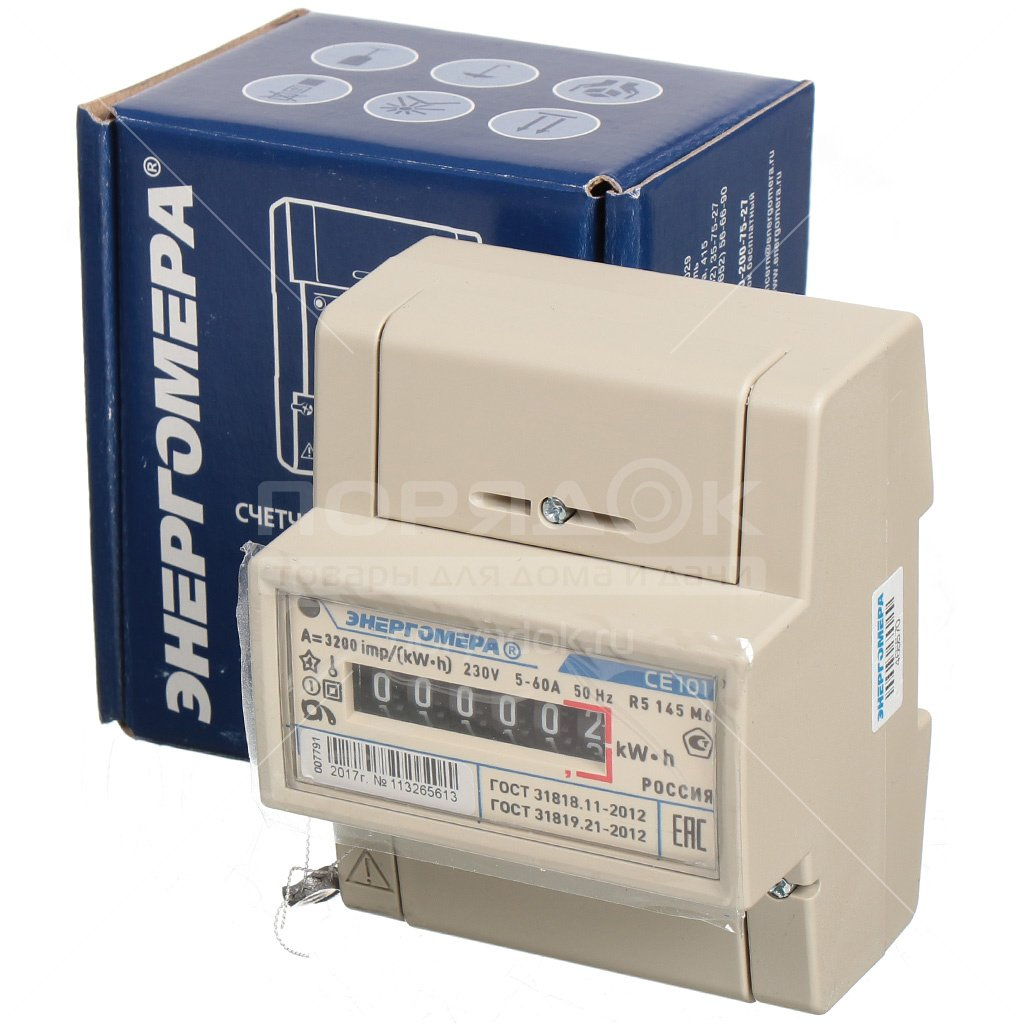counter: (233, 311, 809, 1006)
counter_screen: (347, 656, 610, 769)
